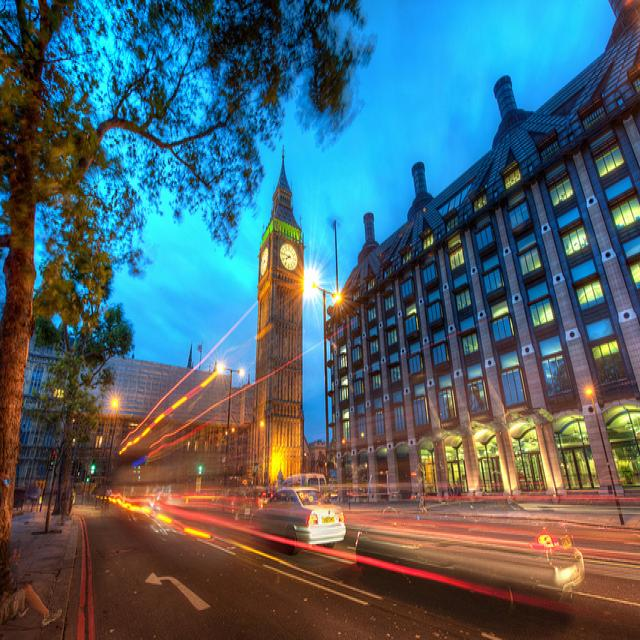Vehicle: (356, 496, 586, 602), (252, 486, 346, 556)
